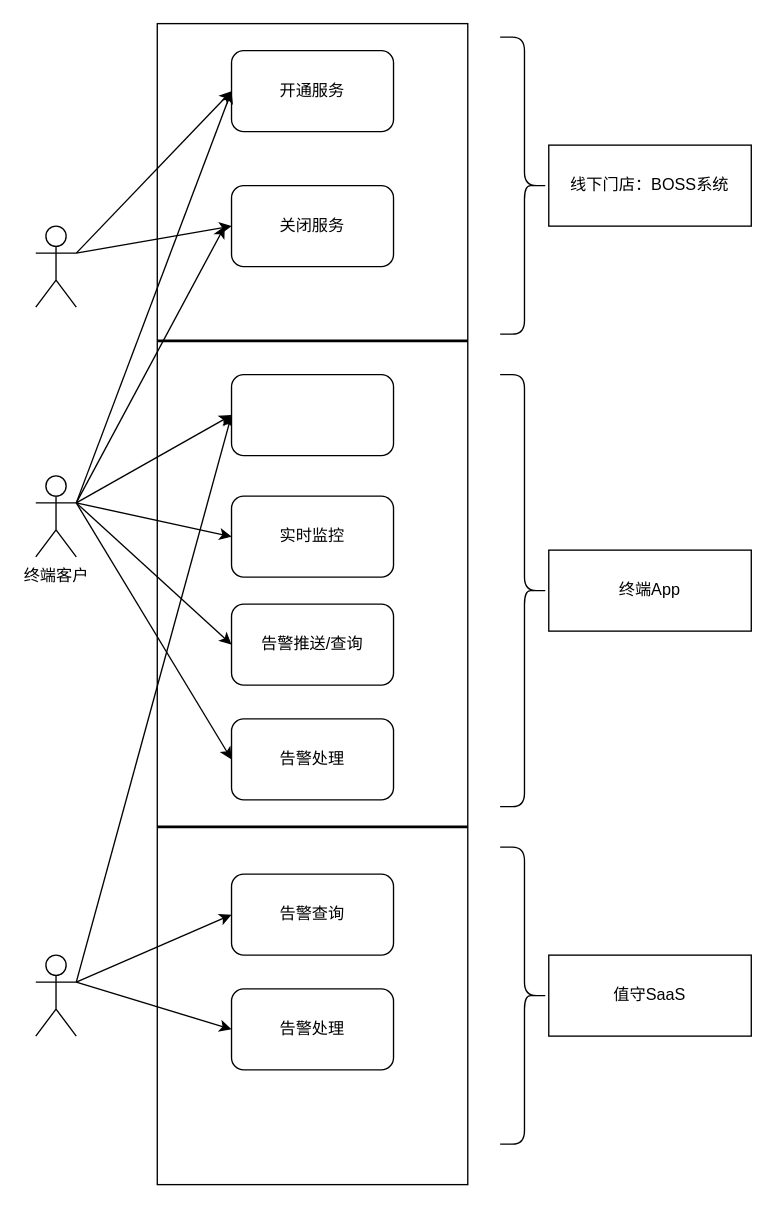
Some shapes in this 775 by 1208 pixel diagram are drawn without their labels. The shapes that lost their labels are listed below. From the top down, each one's centre as x and y in pixels, then its label:
point (55, 266): 运营商
point (312, 414): 设备安装
point (55, 995): 安保公司
